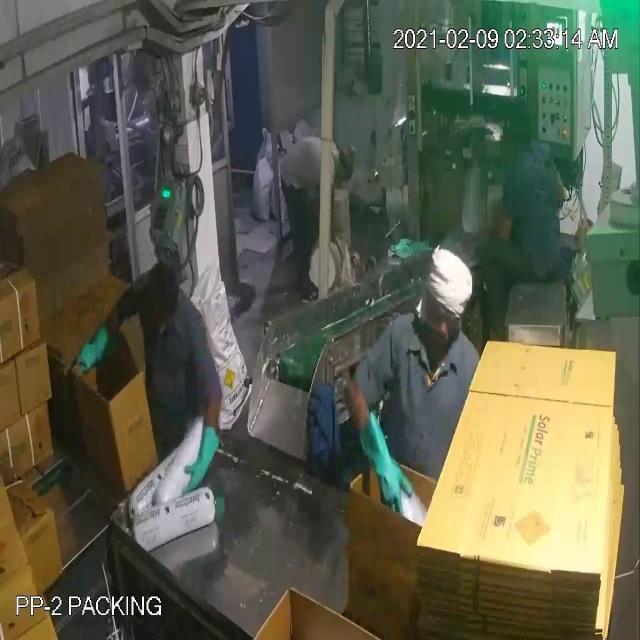Gloves: (54, 60, 382, 462)
